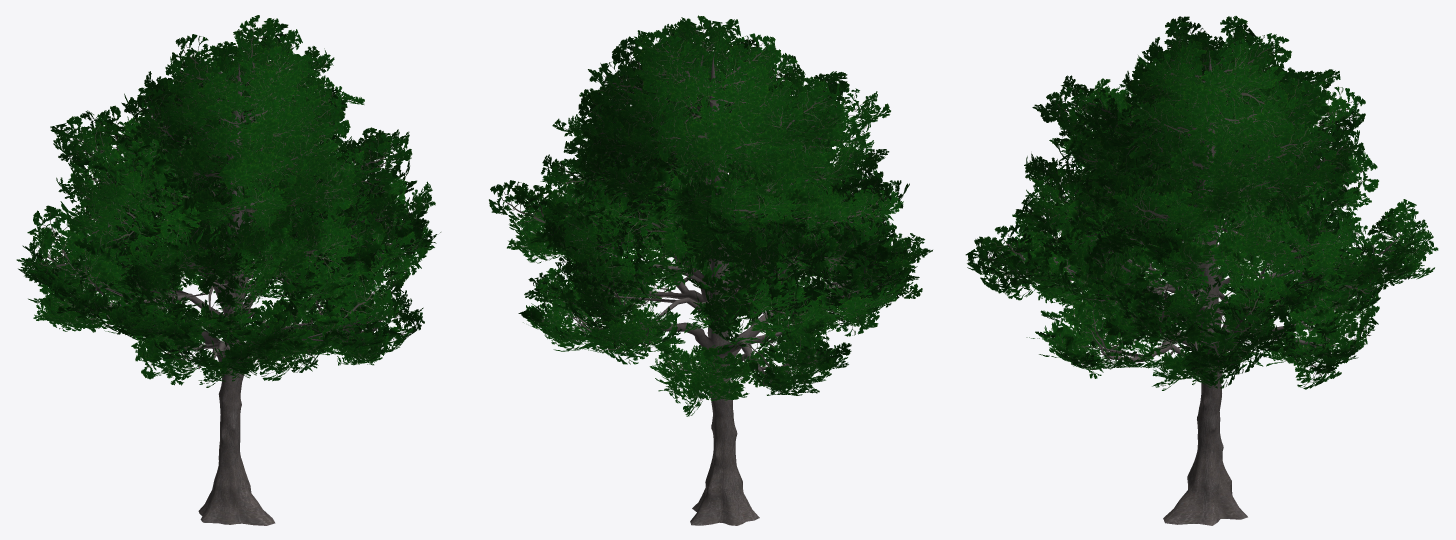
The picture shows the model from 3 angles, left to right: view 1: azimuth 30°, elevation 25°; view 2: azimuth 150°, elevation 25°; view 3: azimuth 270°, elevation 25°; orthographic projection. The views are drawn at different scales.
Visible parts, largest first — view 1: SM_BM_Oak_Tree_01_LOD0; view 2: SM_BM_Oak_Tree_01_LOD0; view 3: SM_BM_Oak_Tree_01_LOD0.
Boxes of the visible parts, left/top/right/bottom form: SM_BM_Oak_Tree_01_LOD0: left=16, top=15, right=440, bottom=525; SM_BM_Oak_Tree_01_LOD0: left=489, top=15, right=932, bottom=525; SM_BM_Oak_Tree_01_LOD0: left=965, top=16, right=1438, bottom=525.
Bounding box in the file's own units: 18.67 × 20.2 × 17.95.
Materials: 2 (2 with a texture image).
